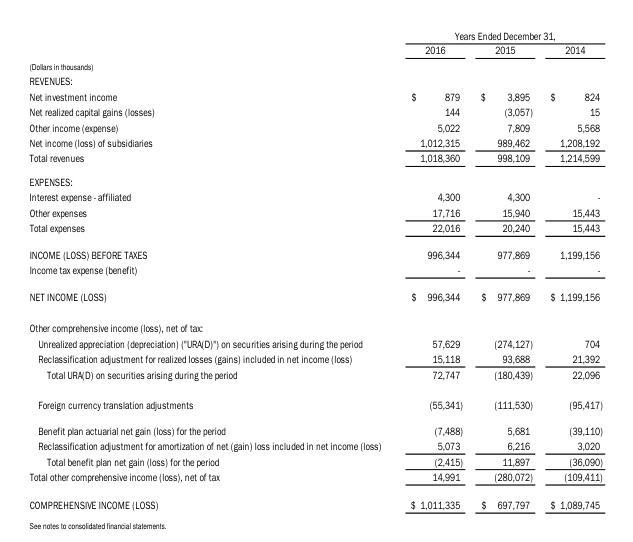table: (28, 28, 601, 510)
table column: (28, 28, 394, 510), (394, 28, 470, 510), (470, 28, 540, 510), (540, 28, 601, 510)
table column header: (28, 28, 601, 57)
table projected row header: (28, 311, 601, 335), (28, 169, 601, 188), (28, 72, 601, 88), (28, 57, 601, 72)
table row: (28, 282, 601, 311), (28, 389, 601, 417), (28, 311, 601, 335), (28, 365, 601, 389), (28, 468, 601, 490), (28, 219, 601, 240), (28, 240, 601, 261), (28, 261, 601, 282), (28, 149, 601, 169), (28, 417, 601, 437), (28, 490, 601, 510), (28, 169, 601, 188), (28, 72, 601, 88), (28, 103, 601, 119), (28, 188, 601, 204), (28, 437, 601, 453), (28, 42, 601, 57), (28, 57, 601, 72), (28, 88, 601, 103), (28, 119, 601, 134), (28, 134, 601, 149), (28, 204, 601, 219), (28, 335, 601, 350), (28, 350, 601, 365), (28, 453, 601, 468), (28, 28, 601, 42)
table spanning cell: (394, 28, 601, 42)
